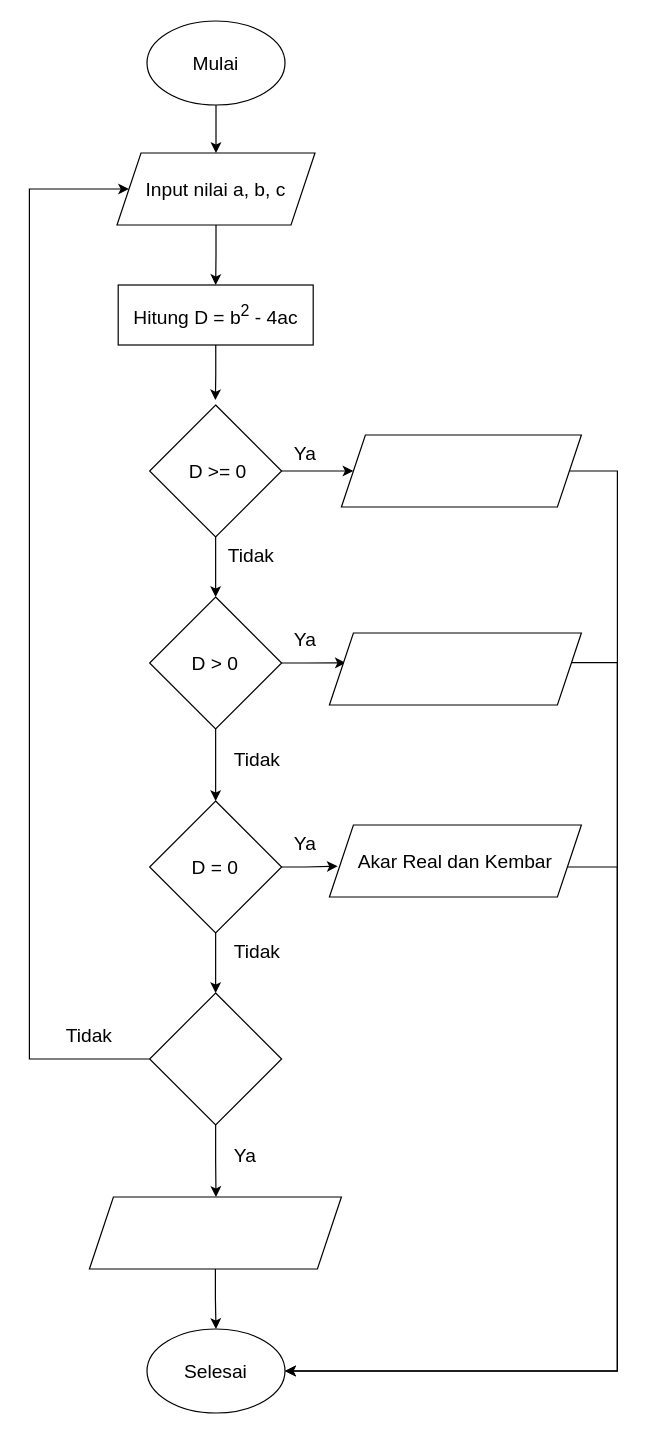
The diagram is 648 pixels wide and 1434 high, and some of its shapes have lost their labels. Each missing label, with the centre of its shape:
Akar Imajiner: the point at 214,1232
Akar Real dan Berlainan: the point at 454,668
Akar Real dan Nyata: the point at 460,470
D < 0: the point at 215,1058
